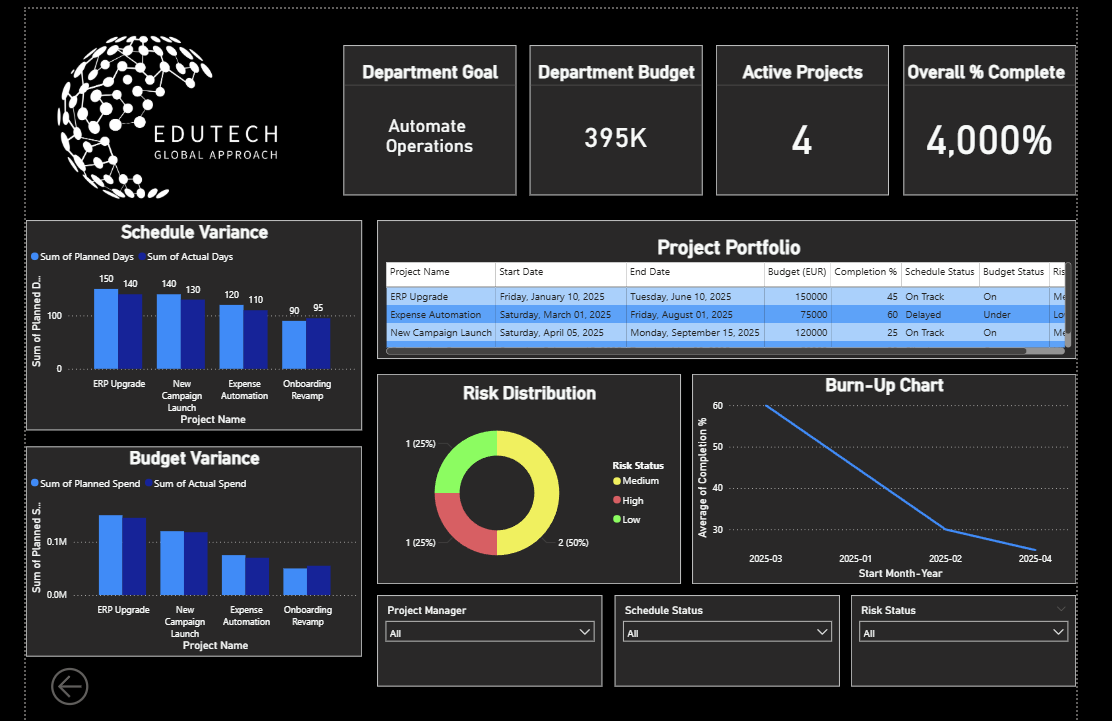

This screenshot's page, from the dashboard's own definition file:
{"tool":"powerbi","page":{"name":"Page 2","canvas":[1400,1200],"ordinal":1},"visuals":[{"type":"card","title":"Department Goal","fields":{"Values":["Min(Sheet1.Department Objective)"]},"box":[423.3,48.3,230,200],"z":0},{"type":"card","title":"Department Budget","fields":{"Values":["Sum(Sheet1.Budget (EUR))"]},"box":[671.7,48.3,230,200],"z":1000},{"type":"card","title":"Active Projects","fields":{"Values":["Count(Sheet1.Project Name)"]},"box":[920.7,48,230,200],"z":2000},{"type":"card","title":"Overall % Complete","fields":{"Values":["Avg(Sheet1.Completion %)"]},"box":[1170,48.3,230,200],"z":3000},{"type":"tableEx","title":"Project Portfolio ","fields":{"Values":["Sheet1.Project Name","Sheet1.Start Date","Sheet1.End Date","Sheet1.Budget (EUR)","Sheet1.Completion %","Sheet1.Schedule Status","Sheet1.Budget Status","Sheet1.Risk Status"]},"box":[468.3,281.7,931.7,185],"z":4000},{"type":"clusteredColumnChart","title":"Schedule Variance","fields":{"Category":["Sheet1.Project Name"],"Y":["Sum(Sheet1.Planned Days)","Sum(Sheet1.Actual Days)"]},"box":[0,281.7,448.3,280],"z":5000},{"type":"clusteredColumnChart","title":"Budget Variance","fields":{"Category":["Sheet1.Project Name"],"Y":["Sum(Sheet1.Planned Spend)","Sum(Sheet1.Actual Spend)"]},"box":[0,583.3,448,280],"z":6000},{"type":"lineChart","title":"Burn-Up Chart","fields":{"Y":["Avg(Sheet1.Completion %)"],"Category":["Sheet1.Start Month-Year"]},"box":[888.3,486.7,511.7,280],"z":7000},{"type":"donutChart","title":"Risk Distribution","fields":{"Category":["Sheet1.Risk Status"],"Y":["Count(Sheet1.Project Name)"]},"box":[468.3,486.7,405,280],"z":8000},{"type":"slicer","fields":{"Values":["Sheet1.Project Manager"]},"box":[468.3,781.7,300,121.7],"z":9000},{"type":"slicer","fields":{"Values":["Sheet1.Schedule Status"]},"box":[785,781.7,300,121.7],"z":10000},{"type":"slicer","fields":{"Values":["Sheet1.Risk Status"]},"box":[1100,781.7,300,121.7],"z":11000},{"type":"image","box":[0,13.3,385,268.3],"z":12000},{"type":"actionButton","box":[26.7,871.7,166.7,63.3],"z":13000}]}

Visuals, with their boxes on the page's 1400x1200 design canvas (x1, y1, x2, y2). These are canvas units, not pixel positions in the 1112x721 screenshot, which may show the page scaled, cropped or inside an application window:
"Department Goal" card: bbox=[423, 48, 653, 248]
"Department Budget" card: bbox=[672, 48, 902, 248]
"Active Projects" card: bbox=[921, 48, 1151, 248]
"Overall % Complete" card: bbox=[1170, 48, 1400, 248]
"Project Portfolio " tableEx: bbox=[468, 282, 1400, 467]
"Schedule Variance" clusteredColumnChart: bbox=[0, 282, 448, 562]
"Budget Variance" clusteredColumnChart: bbox=[0, 583, 448, 863]
"Burn-Up Chart" lineChart: bbox=[888, 487, 1400, 767]
"Risk Distribution" donutChart: bbox=[468, 487, 873, 767]
slicer - Sheet1.Project Manager: bbox=[468, 782, 768, 903]
slicer - Sheet1.Schedule Status: bbox=[785, 782, 1085, 903]
slicer - Sheet1.Risk Status: bbox=[1100, 782, 1400, 903]
image: bbox=[0, 13, 385, 282]
actionButton: bbox=[27, 872, 193, 935]
